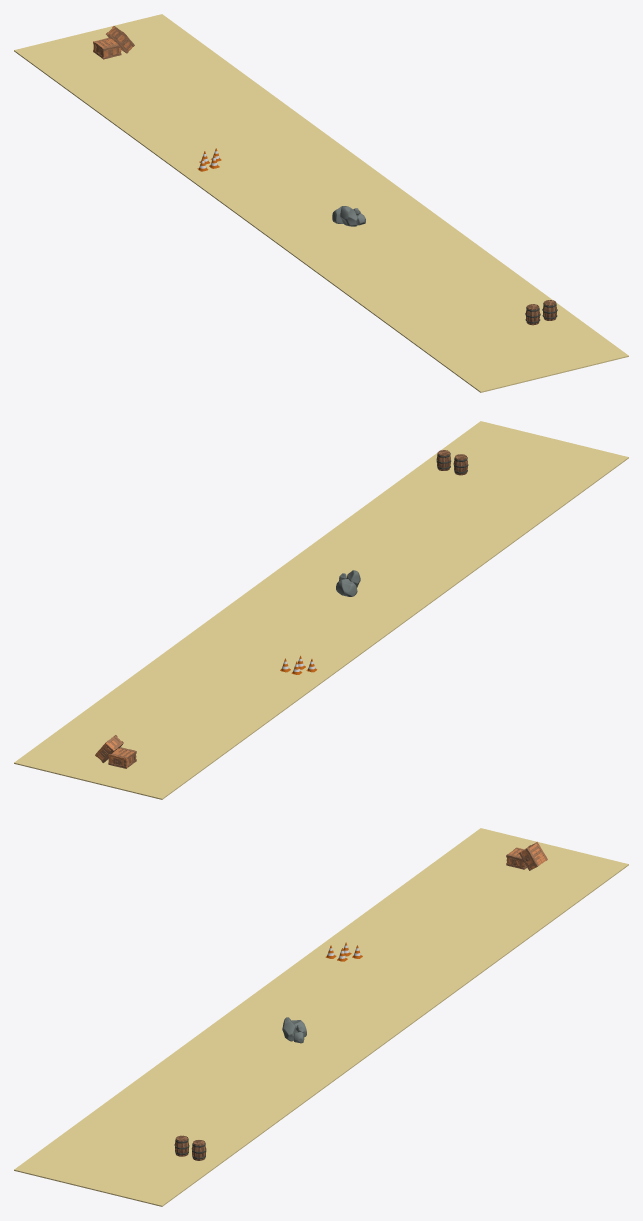
File: tile 4.fbx
3 views of the same model, one above another, from view 1: azimuth 30°, elevation 25°; view 2: azimuth 150°, elevation 25°; view 3: azimuth 330°, elevation 25° (orthographic).
Parts seen in each view (by area): view 1: Cube.078; view 2: Cube.078; view 3: Cube.078.
Boxes of the visible parts, left/top/right/bottom form: Cube.078: left=14, top=14, right=628, bottom=392; Cube.078: left=14, top=421, right=628, bottom=799; Cube.078: left=14, top=828, right=628, bottom=1206.
Bounding box in the file's own units: 200 × 34.49 × 1091.
